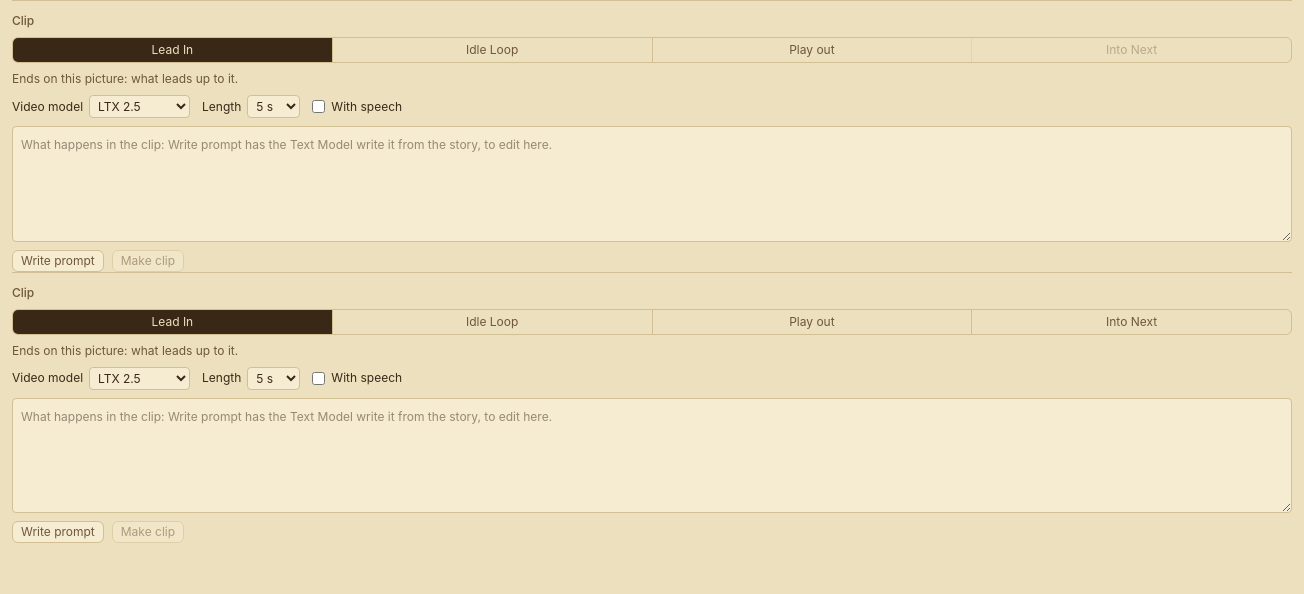
it: FrameClips › offers Into Next only with a next picture, and warns what it needs
The image size is (1304, 594).
Check: the 1st radio button labelled "Into Next" is disabled, box [971,38,1291,62]
Click the 2nd radio button labelled "Into Next": coordinates (1131, 322) [971,310,1291,334]
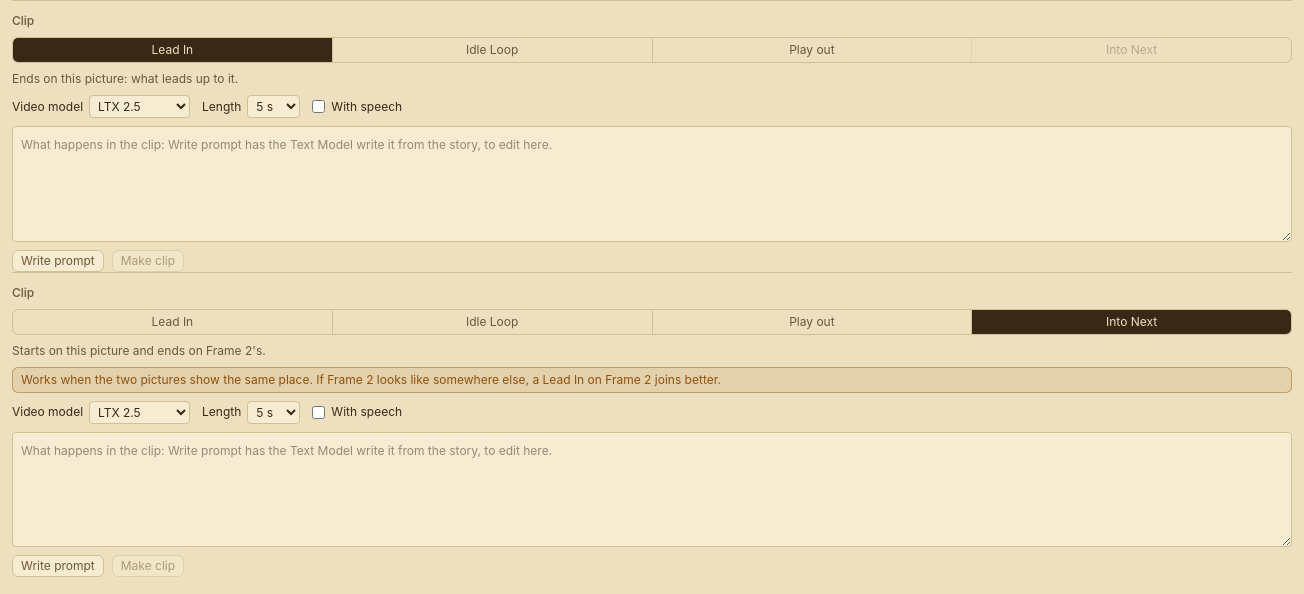
Check: the text "Lead In on Frame 2" is shown, box [21,372,721,386]
